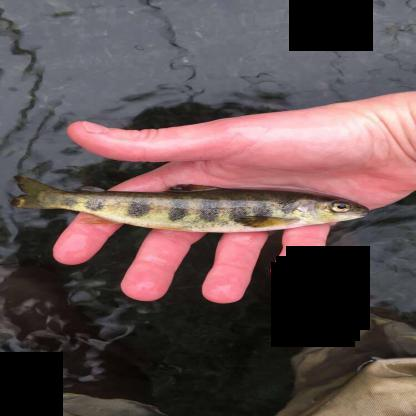fish: (10, 172, 372, 234)
